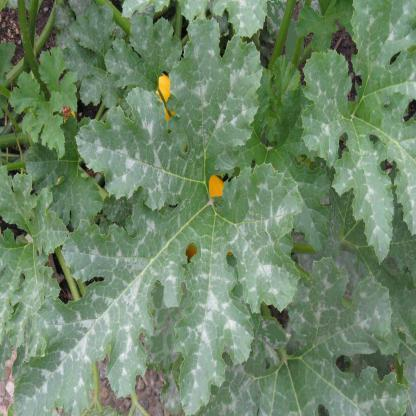Squash Powdery mildew leaf: (3, 180, 219, 416), (66, 98, 214, 218), (171, 14, 261, 172), (214, 155, 296, 309)
